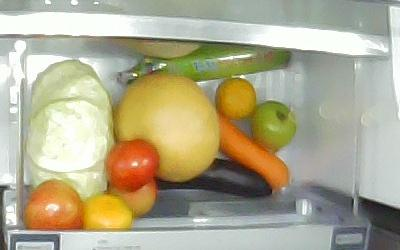cabbage: (29, 59, 114, 208)
carrot: (218, 115, 290, 189)
eggplant: (152, 154, 272, 200)
pear: (115, 74, 220, 182)
prune: (24, 180, 83, 230)
tangerine: (82, 192, 134, 230), (216, 77, 255, 119)
tomato: (104, 140, 158, 189), (253, 101, 298, 149)
zucchini: (115, 44, 292, 88)
